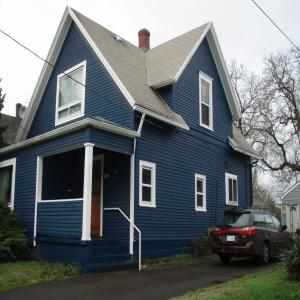Vehicle-registration-plate: (226, 236, 236, 243)
